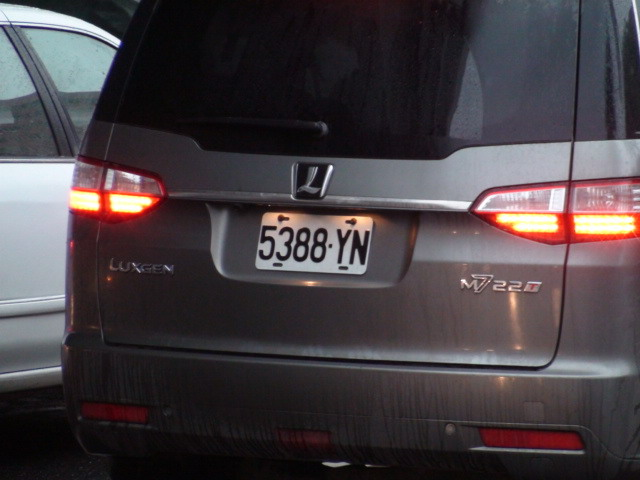plate: (253, 205, 377, 275)
